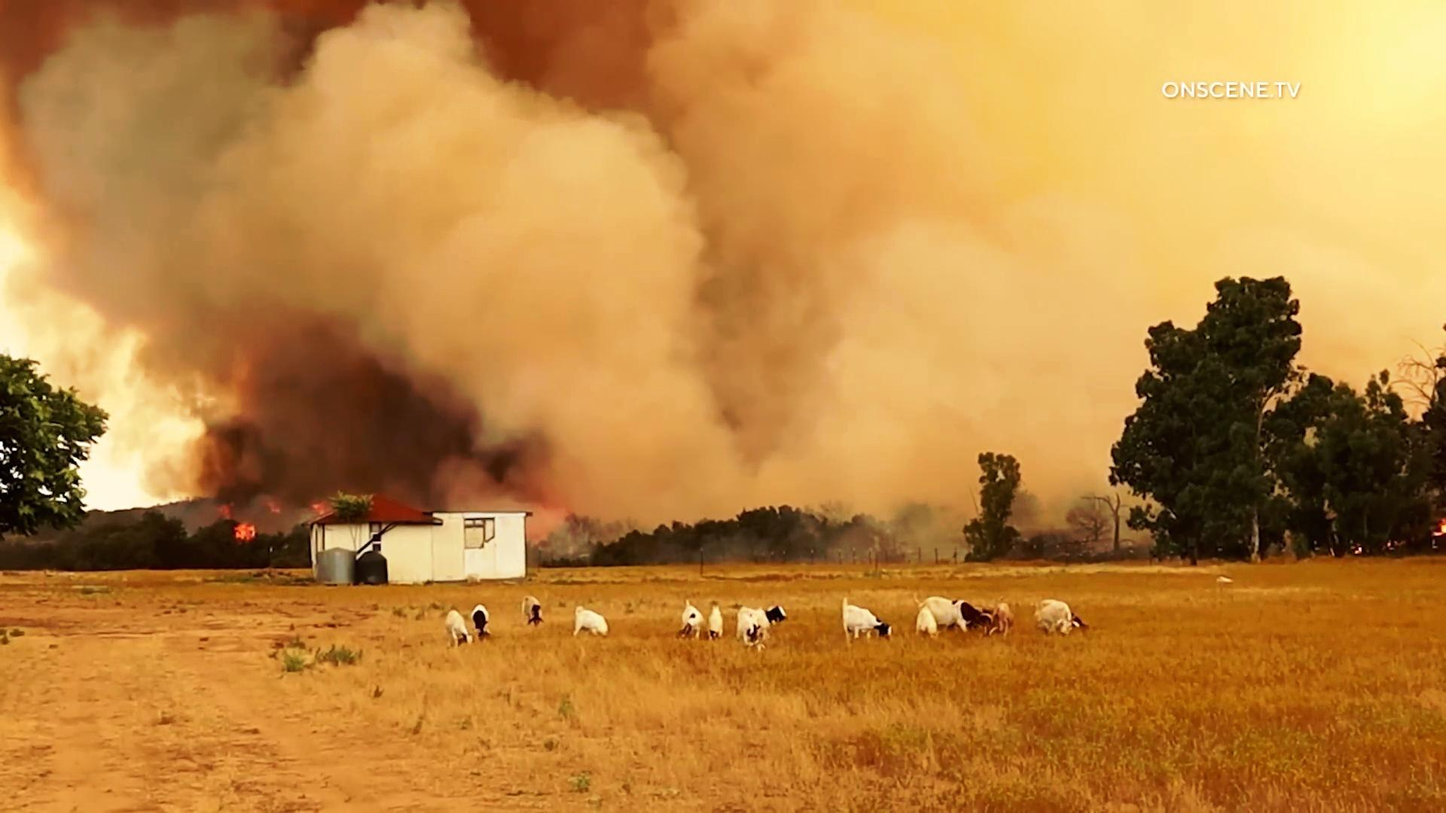smoke: (112, 0, 1104, 466)
